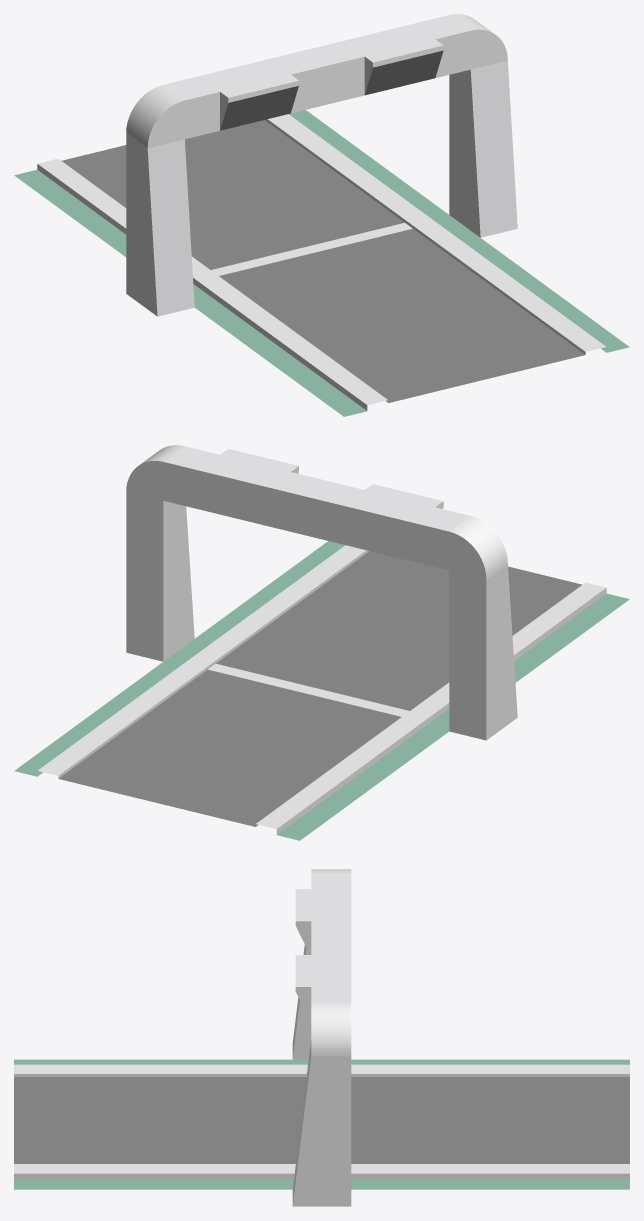
File: roadStart.glb
3 views of the same model, one above another, from view 1: azimuth 30°, elevation 25°; view 2: azimuth 150°, elevation 25°; view 3: azimuth 270°, elevation 25° (orthographic). The views are drawn at different scales.
Visible parts, largest first — view 1: roadStart(Clone); view 2: roadStart(Clone); view 3: roadStart(Clone).
Part boxes in pixels (x1,y1,x2,y2): roadStart(Clone): (14,14,629,416); roadStart(Clone): (14,445,629,840); roadStart(Clone): (14,869,629,1206).
Size of the model in its own units: 1.26 by 0.6682 by 2.
Materials: 1 (1 with a texture image).
